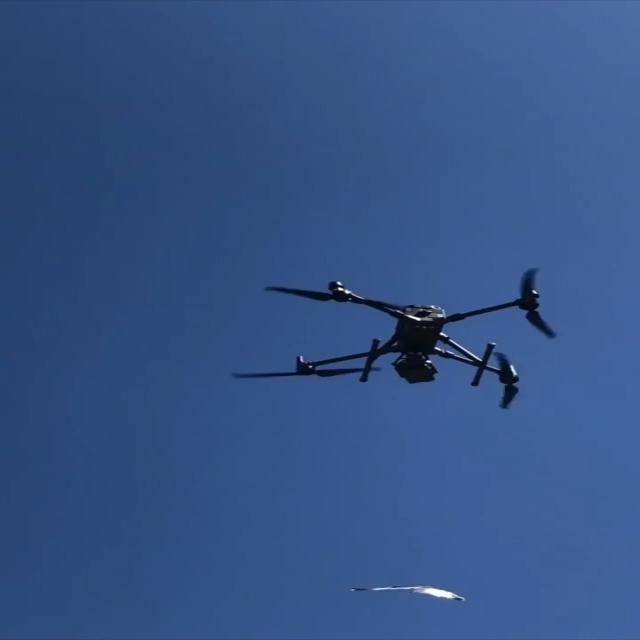bird: (348, 584, 466, 602)
drone: (230, 267, 556, 409)
